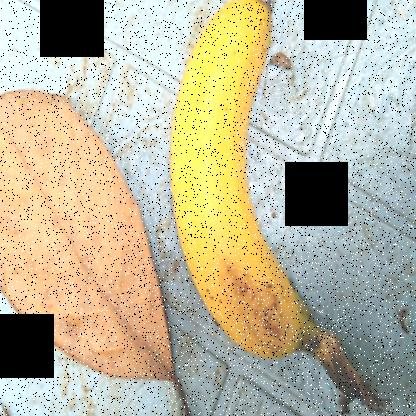freshripe: (154, 1, 314, 363)
